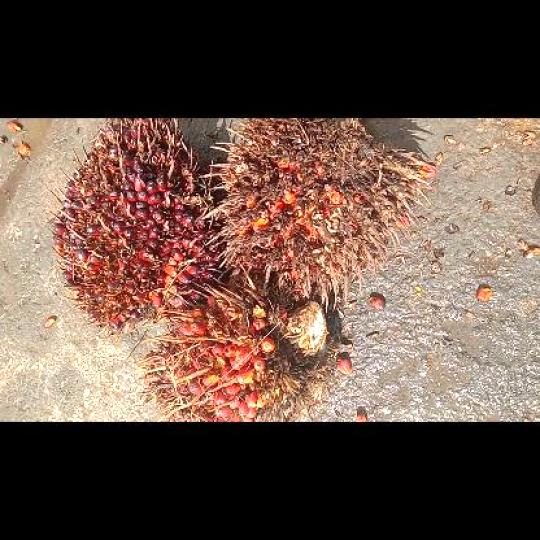masak: (46, 118, 224, 336), (134, 263, 331, 420)
terlalu masak: (199, 118, 432, 310)
